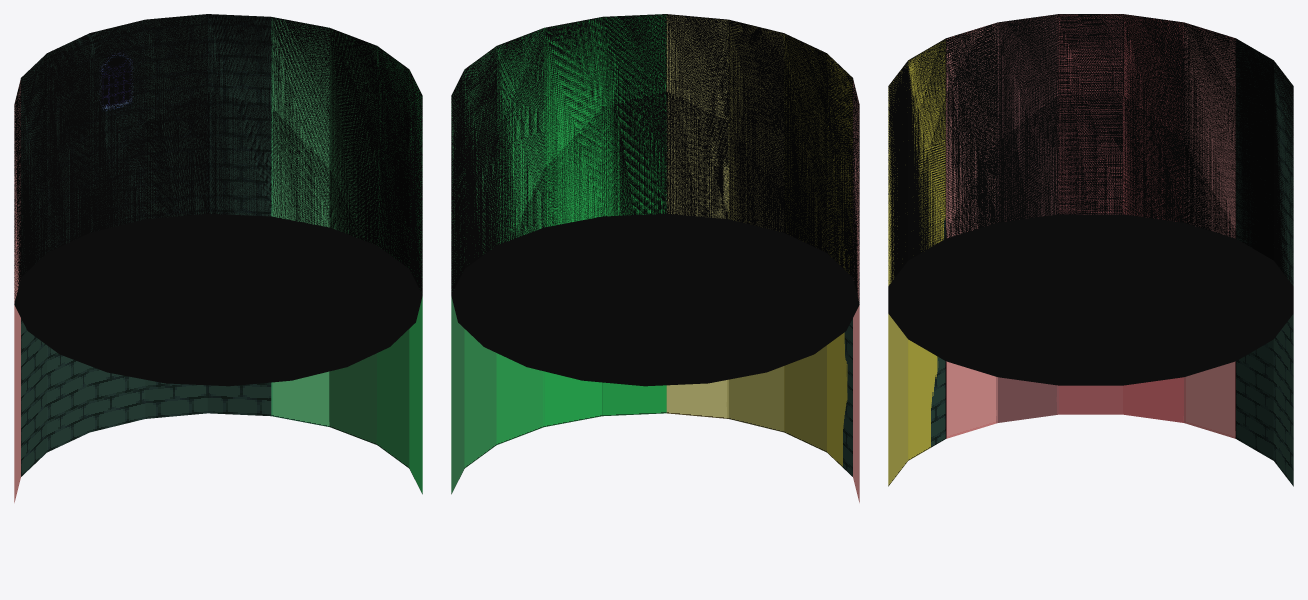
Rendered from spookyjam_castleouter_05.gltf.
The picture shows the model from 3 angles, left to right: view 1: azimuth 30°, elevation 25°; view 2: azimuth 150°, elevation 25°; view 3: azimuth 270°, elevation 25°; orthographic projection.
Parts seen in each view (by area): view 1: cylinder (×2); view 2: cylinder (×2); view 3: cylinder (×2).
Boxes of the visible parts, bbox=[...] form: cylinder (×2): bbox=[14, 14, 422, 502]; cylinder (×2): bbox=[451, 14, 859, 502]; cylinder (×2): bbox=[888, 14, 1293, 486].
Bounding box in the file's own units: 20.62 × 22.5 × 20.62.
2 materials, 2 textured.
